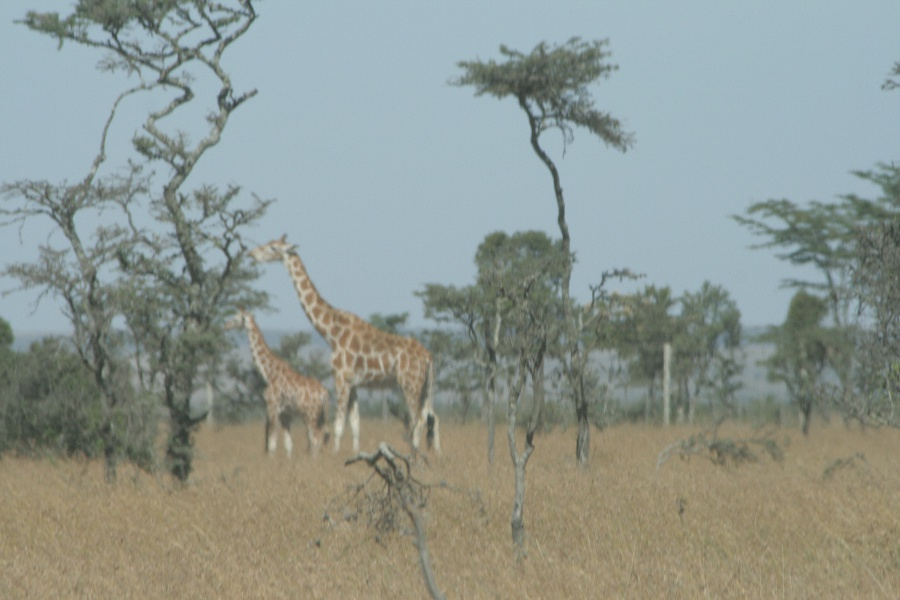giraffe: (250, 230, 446, 462), (223, 299, 332, 456)
